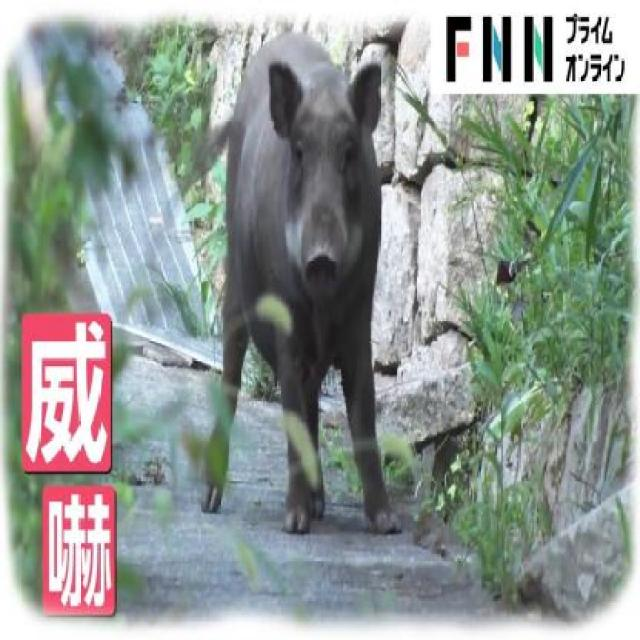wildboar: (191, 26, 409, 542)
